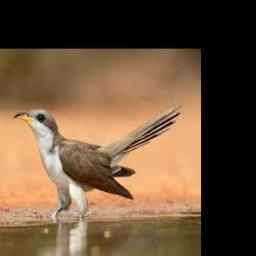Cuckoo: (13, 102, 181, 219)
